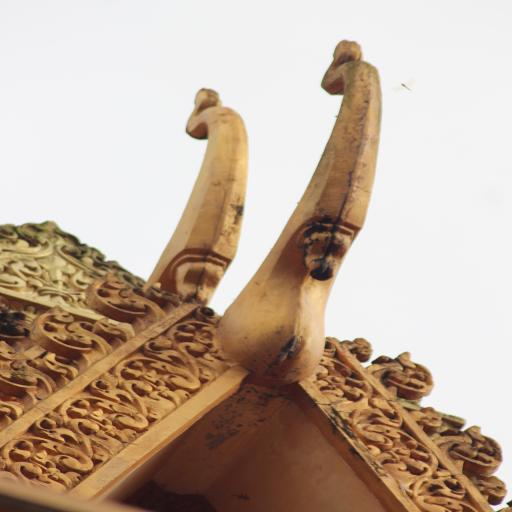la: (356, 404, 429, 480), (8, 434, 83, 492), (74, 394, 131, 449), (154, 321, 208, 378), (122, 358, 170, 410), (410, 472, 472, 512), (320, 358, 364, 408)
lua: (28, 307, 100, 360), (438, 418, 506, 472), (365, 346, 434, 396), (98, 268, 156, 320), (0, 342, 49, 400)
